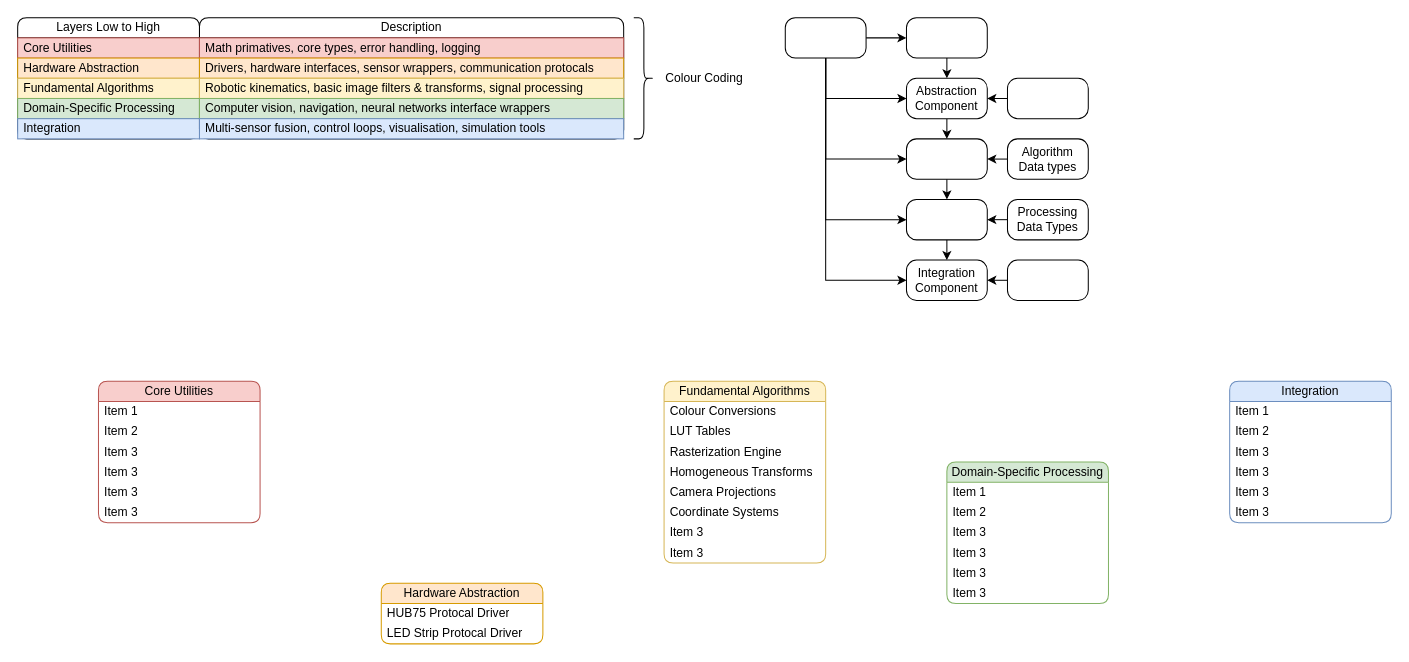
The diagram is 1409 pixels wide and 662 high, and some of its shapes have lost their labels. Here are the shapes that lost their labels. From the top down, the centre of each, then its label:
At (x=825, y=37): "Core Data Types".
At (x=946, y=37): "Core Component".
At (x=1047, y=98): "Abstraction Data Types".
At (x=946, y=158): "Algorithm Component".
At (x=946, y=219): "Processing Component".
At (x=1047, y=279): "Integration Data Types".
